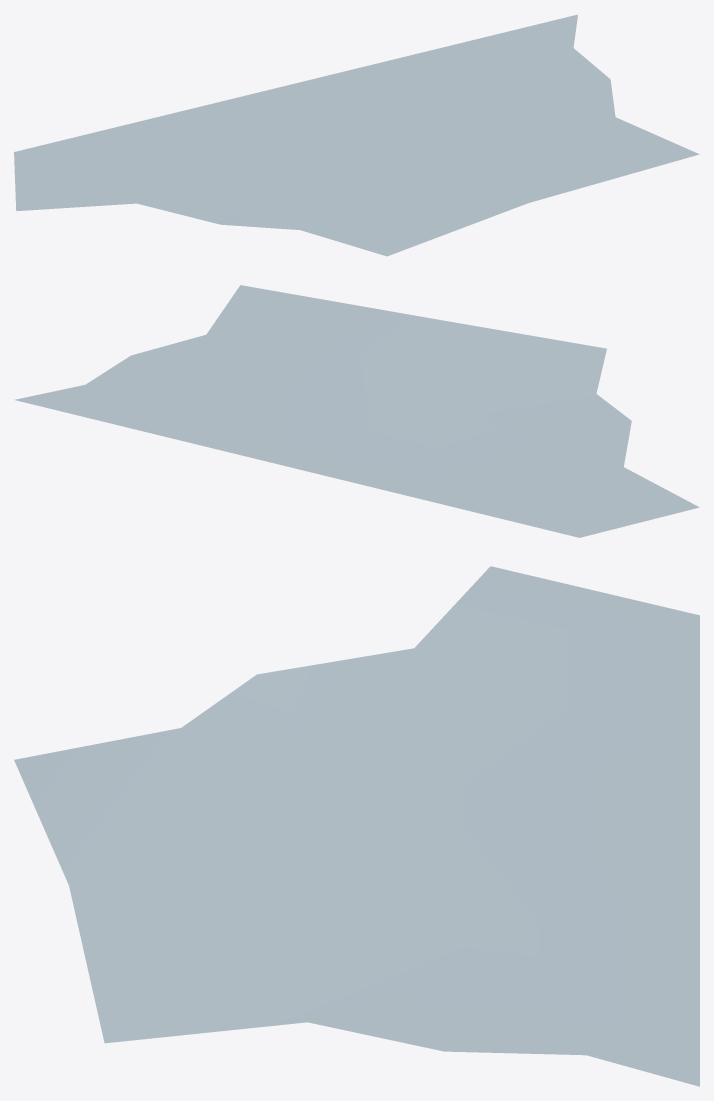
File: nieve2.fbx
The picture shows the model from 3 angles, top to bottom: view 1: azimuth 30°, elevation 25°; view 2: azimuth 150°, elevation 25°; view 3: azimuth 270°, elevation 25°; orthographic projection. The views are drawn at different scales.
Visible parts, largest first — view 1: Cylinder002; view 2: Cylinder002; view 3: Cylinder002.
Boxes of the visible parts, x1,y1,x2,y2 form: Cylinder002: [14, 14, 699, 256]; Cylinder002: [14, 285, 699, 537]; Cylinder002: [14, 566, 699, 1086].
Bounding box in the file's own units: 80.16 × 0.3925 × 44.63.
